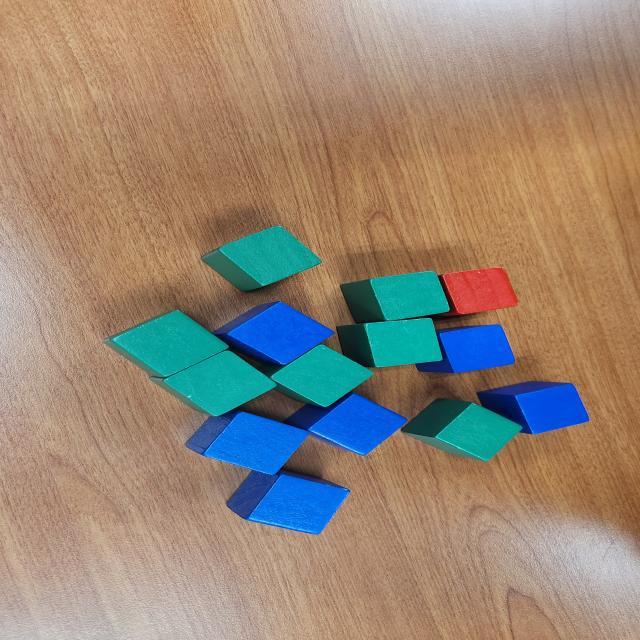blue: (225, 469, 354, 535), (280, 391, 408, 456), (212, 301, 336, 368), (186, 411, 310, 475), (476, 381, 591, 435), (415, 324, 516, 374)
green: (101, 309, 231, 378), (149, 350, 278, 417), (200, 225, 323, 293), (400, 398, 524, 462), (265, 343, 376, 408), (338, 270, 452, 324), (337, 318, 447, 368)
red: (436, 267, 520, 317)
